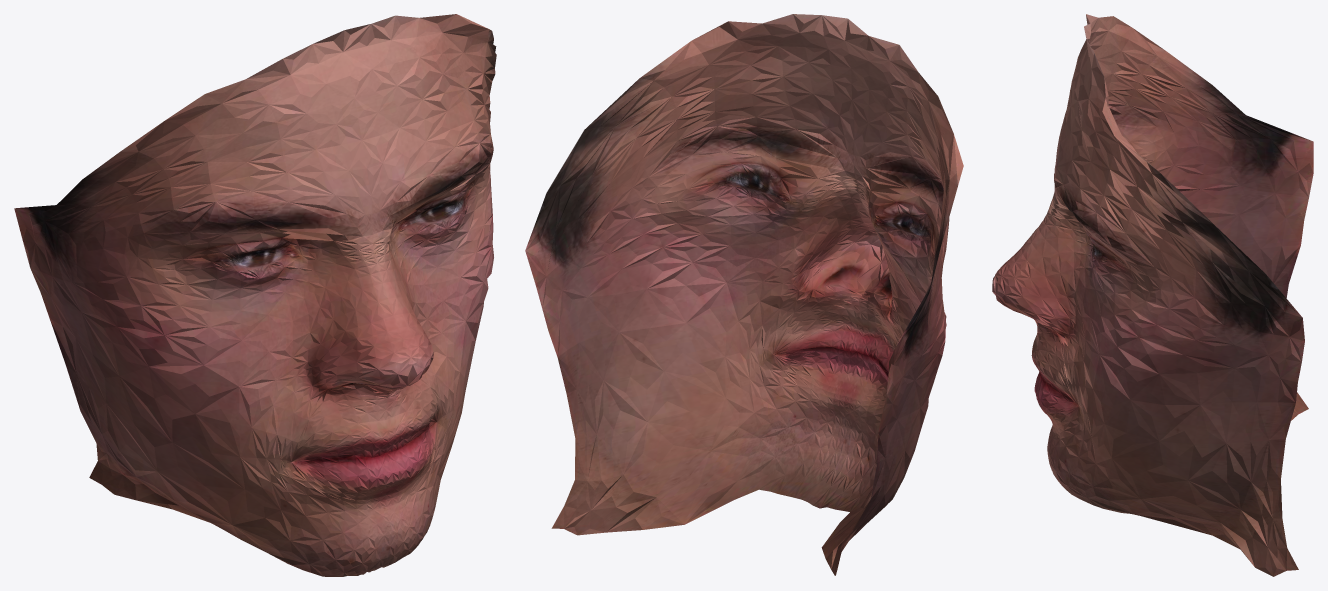
The model's file is M1003_N_conf.obj.
3 renders of one model, left to right at view 1: azimuth 30°, elevation 25°; view 2: azimuth 150°, elevation 25°; view 3: azimuth 270°, elevation 25°, orthographic. The views are drawn at different scales.
Visible parts, largest first — view 1: Object0; view 2: Object0; view 3: Object0.
Boxes of the visible parts, box(x1,y1,x2,y2) form: Object0: box(14, 14, 496, 576); Object0: box(525, 14, 963, 575); Object0: box(992, 14, 1313, 576).
Bounding box in the file's own units: 160 × 197 × 123.
1 material, 1 textured.
